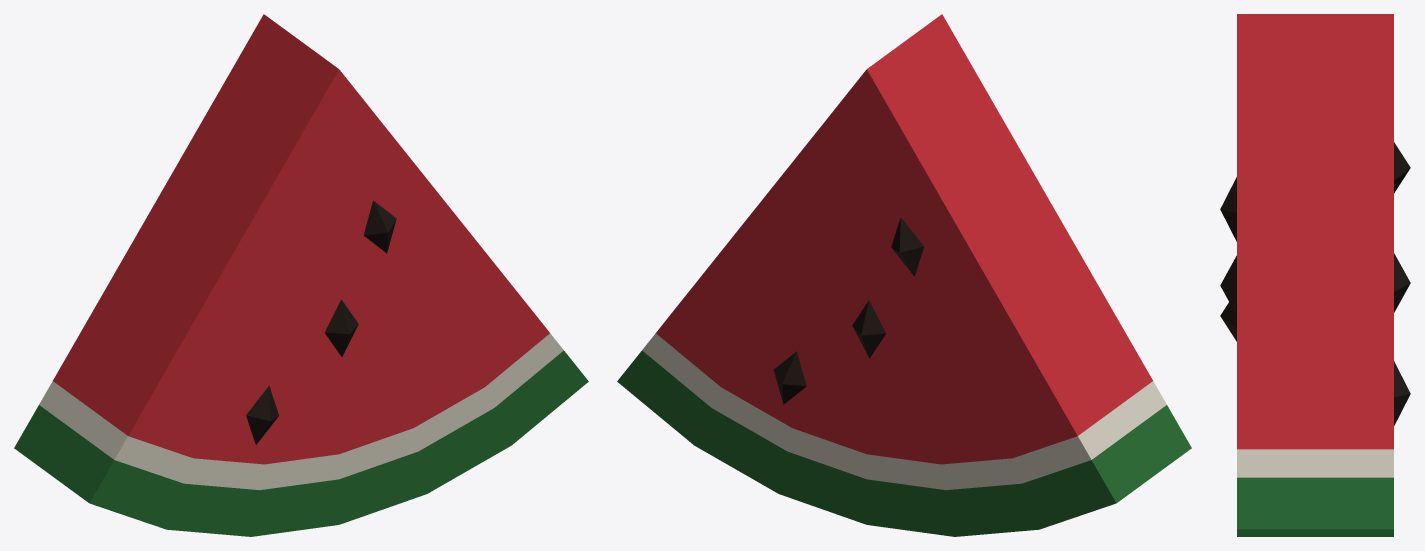
Rendered from watermelon-slice-bd255f.glb.
3 renders of one model, left to right at view 1: azimuth 30°, elevation 25°; view 2: azimuth 150°, elevation 25°; view 3: azimuth 270°, elevation 25°, orthographic. The views are drawn at different scales.
Visible parts, largest first — view 1: watermelon-slice; view 2: watermelon-slice; view 3: watermelon-slice.
Part boxes in pixels (left/top/right/bottom): watermelon-slice: left=14, top=14, right=588, bottom=536; watermelon-slice: left=617, top=14, right=1191, bottom=536; watermelon-slice: left=1220, top=14, right=1410, bottom=536.
Bounding box in the file's own units: 0.1606 × 0.14 × 0.051.
